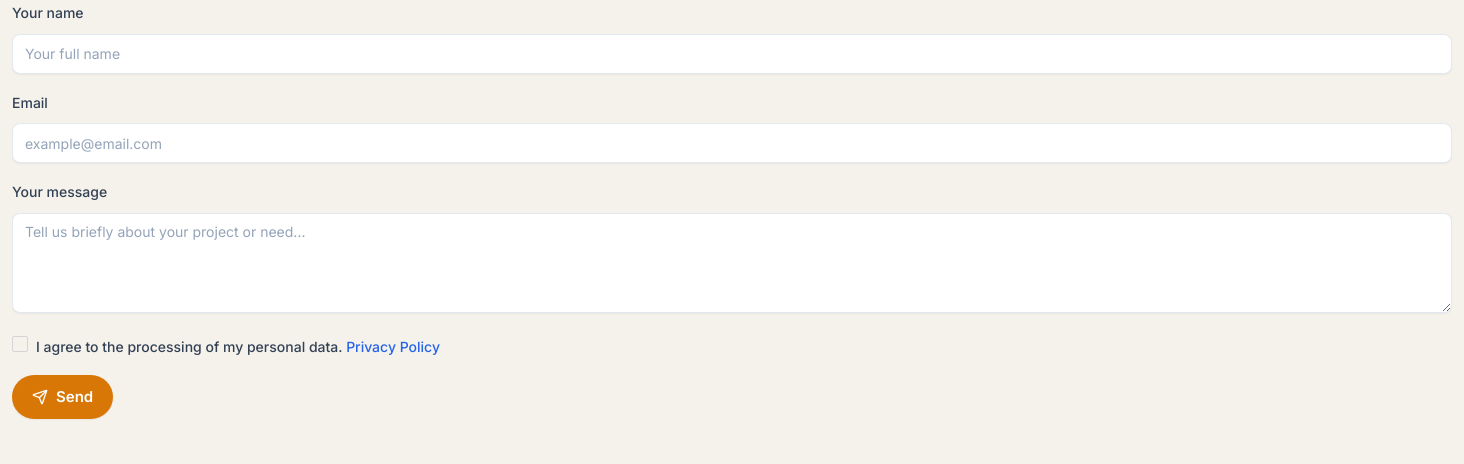
Test: ContactForm › validation (English) › shows error for unchecked privacy
Step 1. Type "John Doe" into the field labelled "Your name" → (732, 54), box [12,34,1452,74]
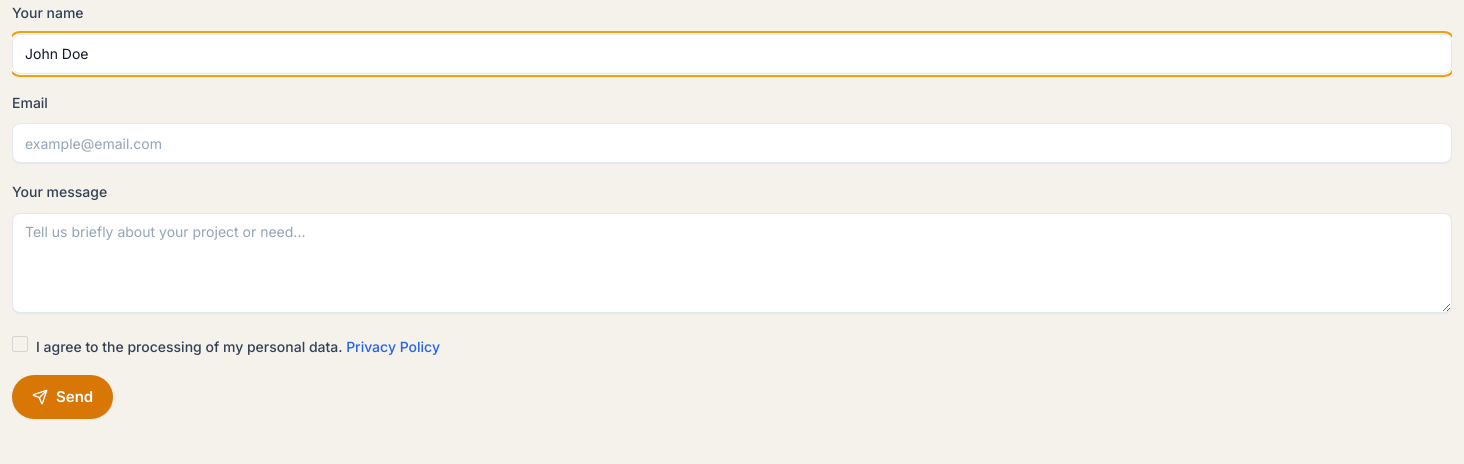
Step 2. Type "john@example.com" into the field labelled "Email" → (732, 143), box [12,123,1452,163]
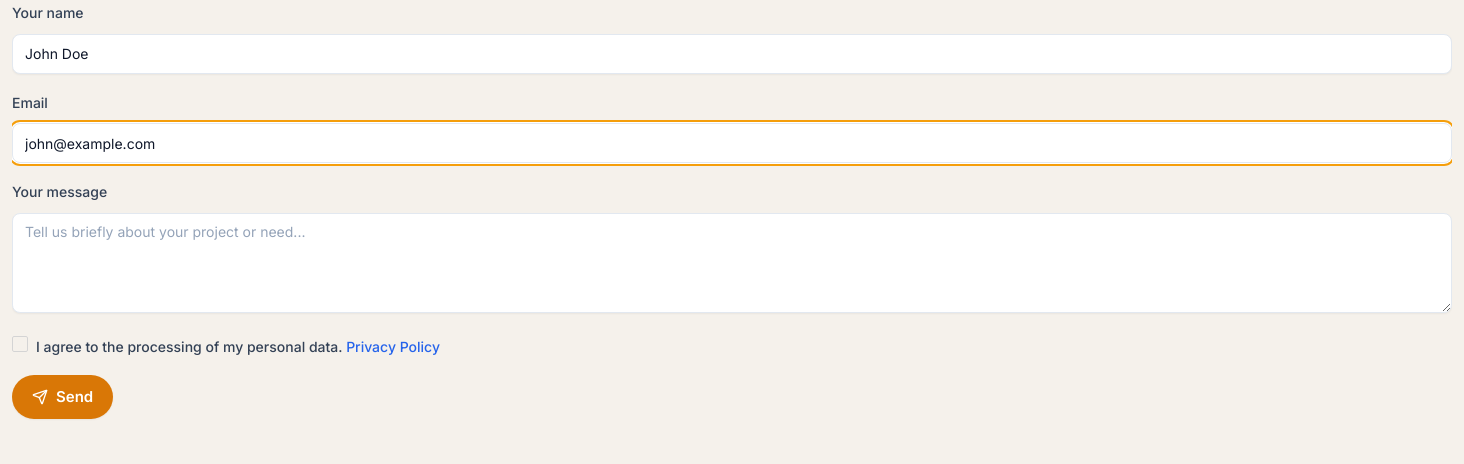
Step 3. Type "This is my message" into the text box labelled "Your message" → (732, 263), box [12,213,1452,313]
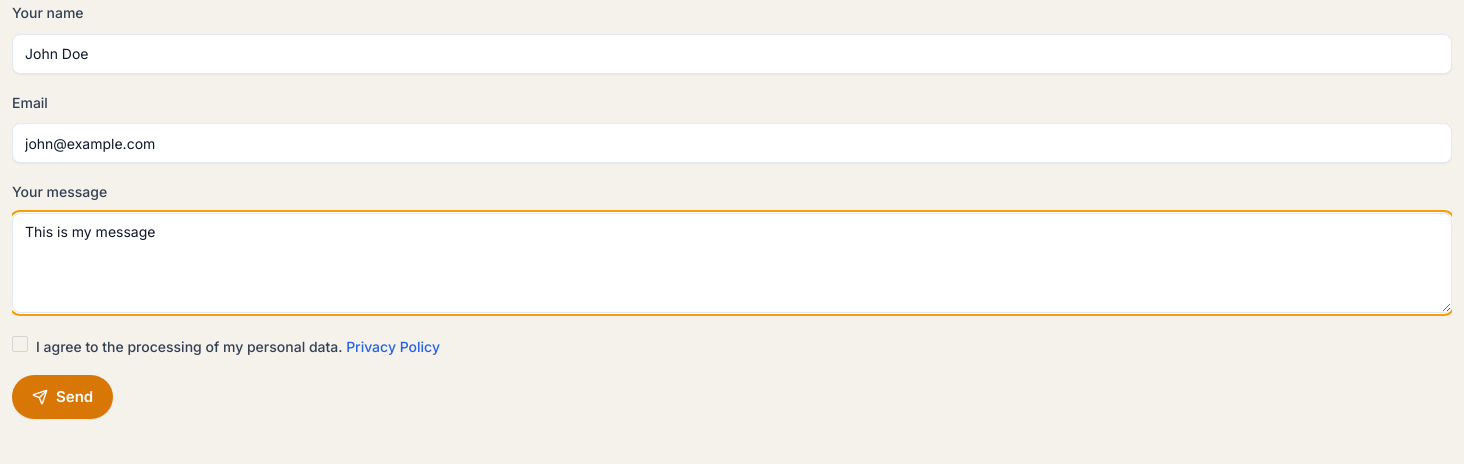
Step 4. Click the button "Send" → (63, 397), box [12,375,113,419]
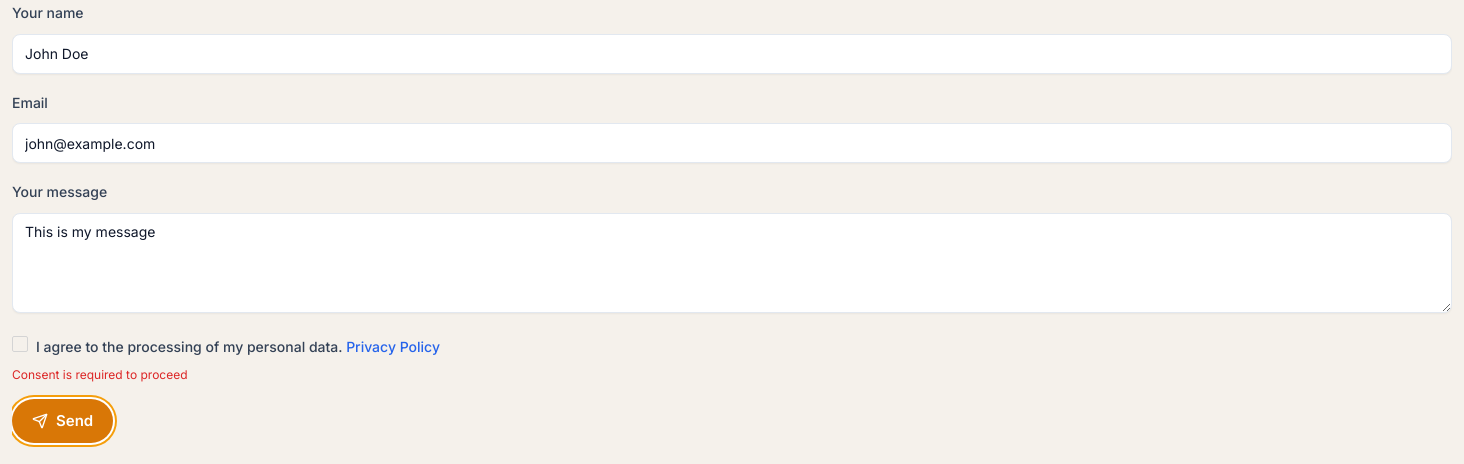
Expected: the text "Consent is required to proceed" is shown, [12,367,188,382]
